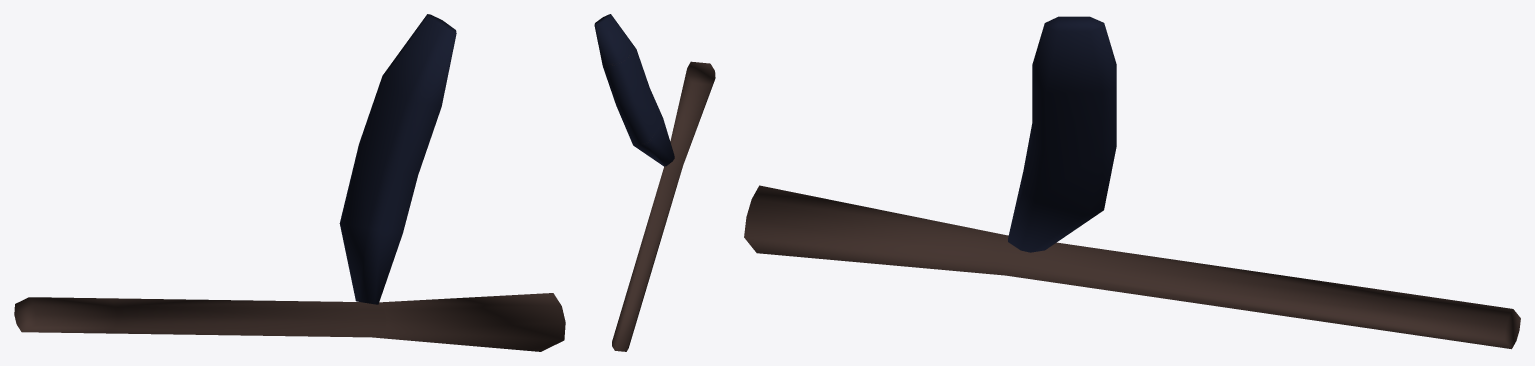
The model's file is hand_staff.dae.
The picture shows the model from 3 angles, left to right: view 1: azimuth 30°, elevation 25°; view 2: azimuth 150°, elevation 25°; view 3: azimuth 270°, elevation 25°; orthographic projection. The views are drawn at different scales.
Parts seen in each view (by area): view 1: Cube.001; view 2: Cube.001; view 3: Cube.001.
Boxes of the visible parts, x1,y1,x2,y2 form: Cube.001: (14, 14, 565, 351); Cube.001: (594, 14, 715, 351); Cube.001: (744, 16, 1520, 349).
Size of the model in its own units: 1.51 by 3.68 by 2.34.
Materials: 1 (1 with a texture image).
